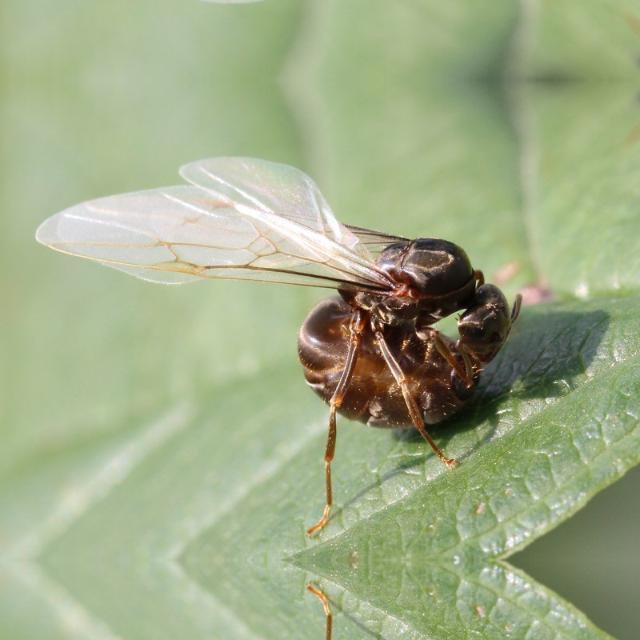Lasius: (266, 185, 530, 449)
